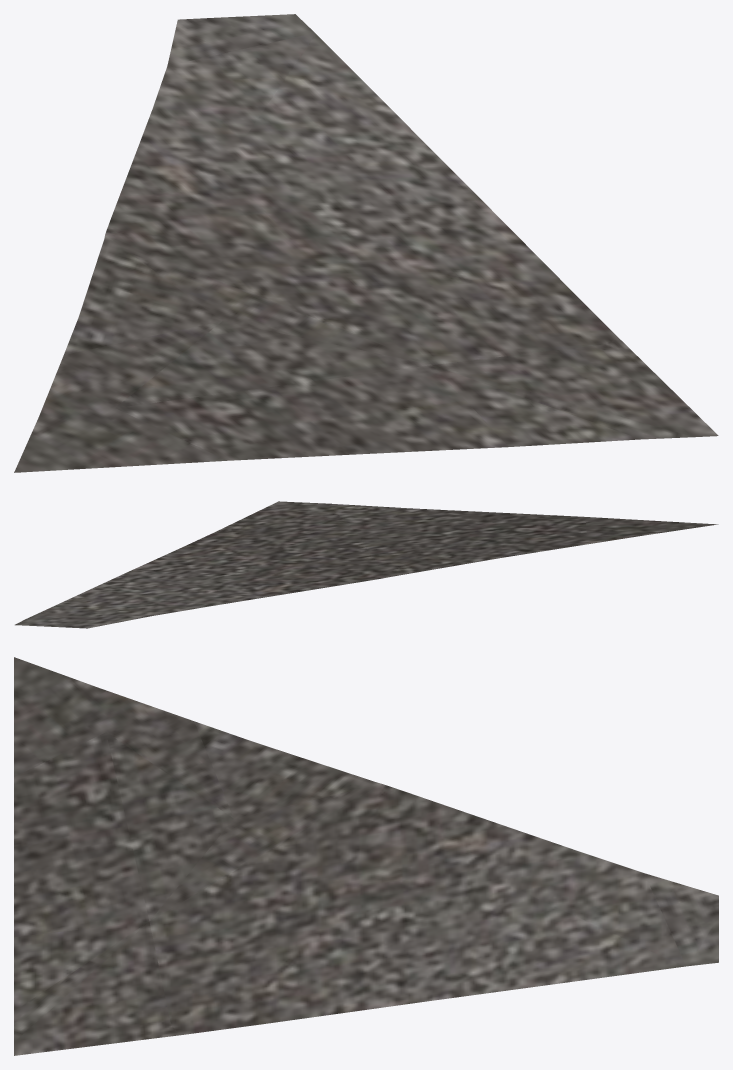
The picture shows the model from 3 angles, top to bottom: view 1: azimuth 30°, elevation 25°; view 2: azimuth 150°, elevation 25°; view 3: azimuth 270°, elevation 25°; orthographic projection. The views are drawn at different scales.
Bounding box in the file's own units: 0.8048 × 0.1475 × 0.8373.
2 materials, 2 textured.
